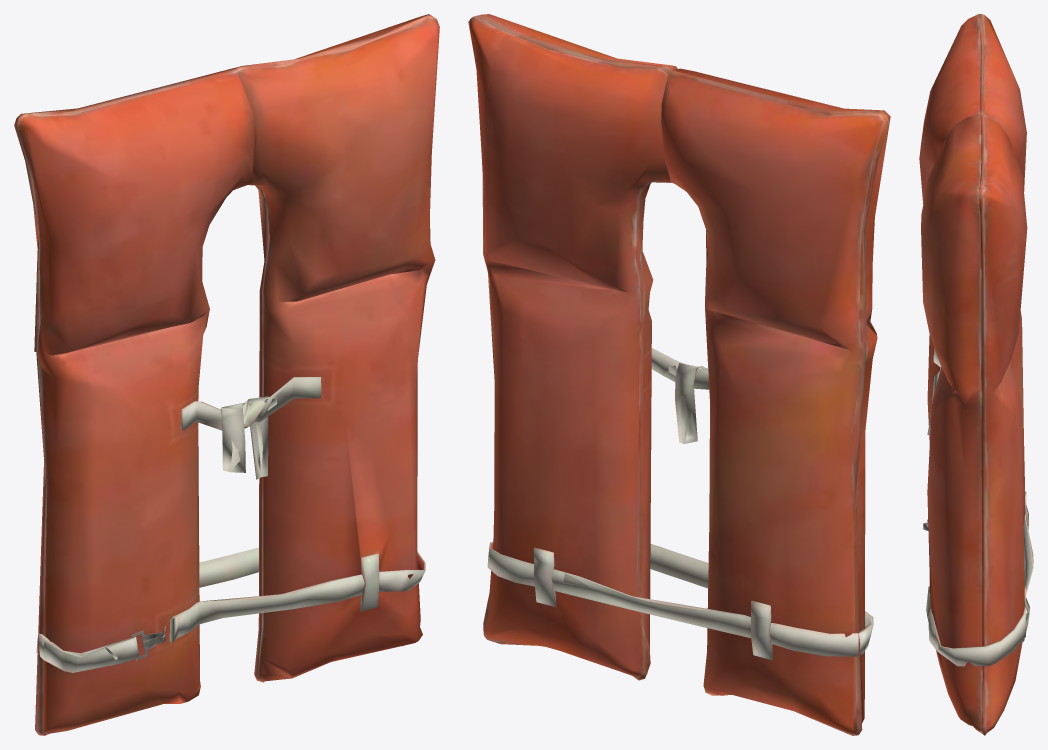
The model's file is life_jacket_lod1.glb.
3 renders of one model, left to right at view 1: azimuth 30°, elevation 25°; view 2: azimuth 150°, elevation 25°; view 3: azimuth 270°, elevation 25°, orthographic. The views are drawn at different scales.
Visible parts, largest first — view 1: life_jacket; view 2: life_jacket; view 3: life_jacket.
Part boxes in pixels (x1,y1,x2,y2): life_jacket: (14,14,439,735); life_jacket: (468,14,890,735); life_jacket: (919,14,1033,735).
Size of the model in its own units: 0.6954 by 0.9902 by 0.1841.
1 material, 1 textured.
